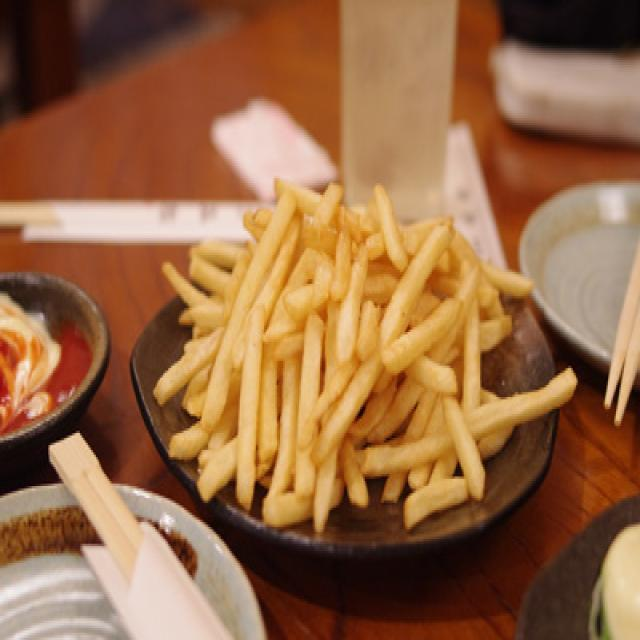French Fries: (166, 164, 536, 518)
